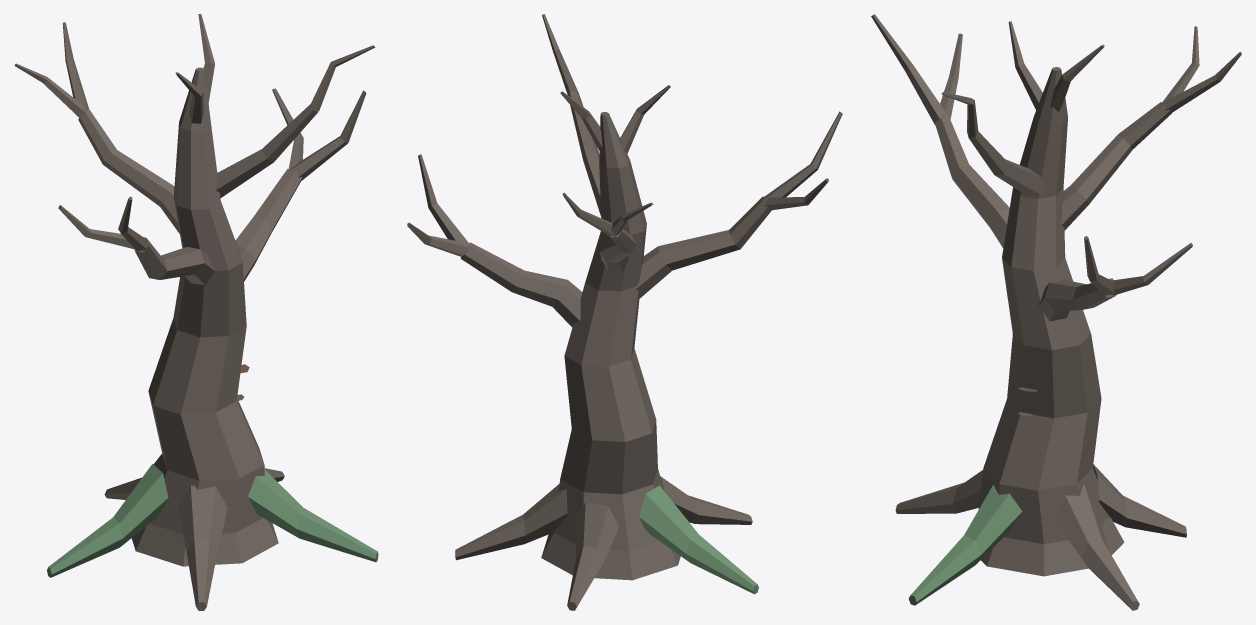
File: outdoor_tree_gnarled.glb
3 views of the same model, side by side, from view 1: azimuth 30°, elevation 25°; view 2: azimuth 150°, elevation 25°; view 3: azimuth 270°, elevation 25° (orthographic). The views are drawn at different scales.
Parts seen in each view (by area): view 1: Outdoor_Tree_Gnarled; view 2: Outdoor_Tree_Gnarled; view 3: Outdoor_Tree_Gnarled.
Part boxes in pixels (<box>): Outdoor_Tree_Gnarled: <box>14,14,378,610</box>; Outdoor_Tree_Gnarled: <box>407,14,842,610</box>; Outdoor_Tree_Gnarled: <box>871,14,1241,610</box>.
Size of the model in its own units: 7.62 by 9.93 by 6.44.
